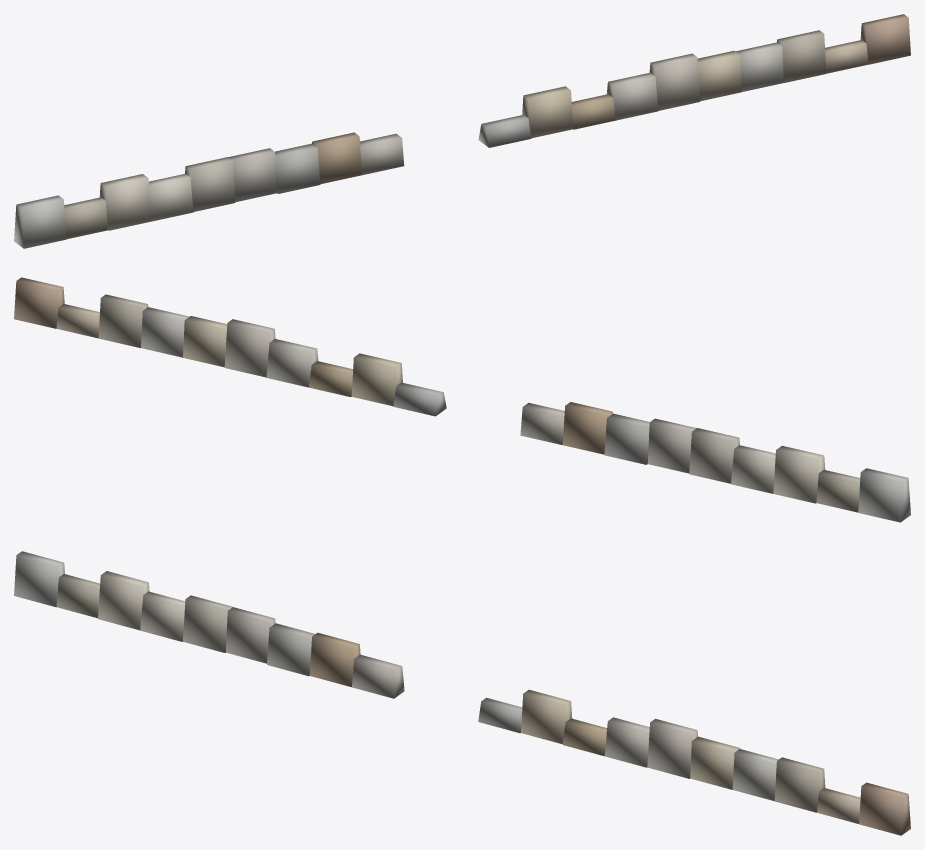
File: farm_35_23_collision.glb
3 views of the same model, one above another, from view 1: azimuth 30°, elevation 25°; view 2: azimuth 150°, elevation 25°; view 3: azimuth 330°, elevation 25° (orthographic).
Parts seen in each view (by area): view 1: geometry_0; view 2: geometry_0; view 3: geometry_0.
Boxes of the visible parts, bbox=[...] form: geometry_0: bbox=[14, 14, 910, 248]; geometry_0: bbox=[14, 277, 910, 522]; geometry_0: bbox=[14, 551, 910, 835].
Bounding box in the file's own units: 33.58 × 2.11 × 0.9951.
